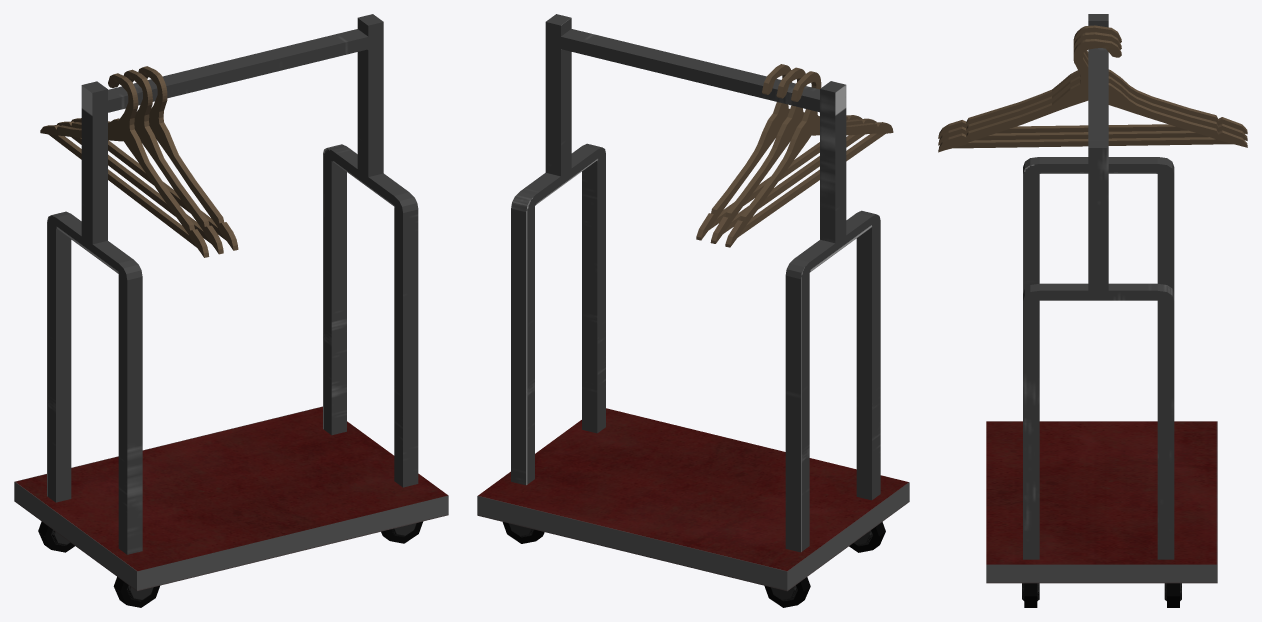
The model's file is CarroMaletablend_.fbx.
3 views of the same model, side by side, from view 1: azimuth 30°, elevation 25°; view 2: azimuth 150°, elevation 25°; view 3: azimuth 270°, elevation 25° (orthographic). The views are drawn at different scales.
Visible parts, largest first — view 1: Cube.001, Cube, Plane.002, Cylinder.006; view 2: Cube.001, Cube, Plane.002, Cylinder.006; view 3: Cube, Cube.001, Plane.002, Cylinder.006.
Part boxes in pixels (x1=…): Cube.001: x1=47, y1=14, x2=418, y2=554; Cube: x1=14, y1=406, x2=448, y2=590; Plane.002: x1=40, y1=66, x2=238, y2=257; Cylinder.006: x1=38, y1=521, x2=423, y2=607; Cube.001: x1=511, y1=14, x2=880, y2=552; Cube: x1=477, y1=408, x2=909, y2=591; Plane.002: x1=696, y1=64, x2=893, y2=247; Cylinder.006: x1=502, y1=522, x2=885, y2=607; Cube: x1=986, y1=421, x2=1217, y2=583; Cube.001: x1=1023, y1=14, x2=1174, y2=559; Plane.002: x1=938, y1=25, x2=1247, y2=152; Cylinder.006: x1=1022, y1=583, x2=1181, y2=607.
Bounding box in the file's own units: 116 × 178 × 106.
